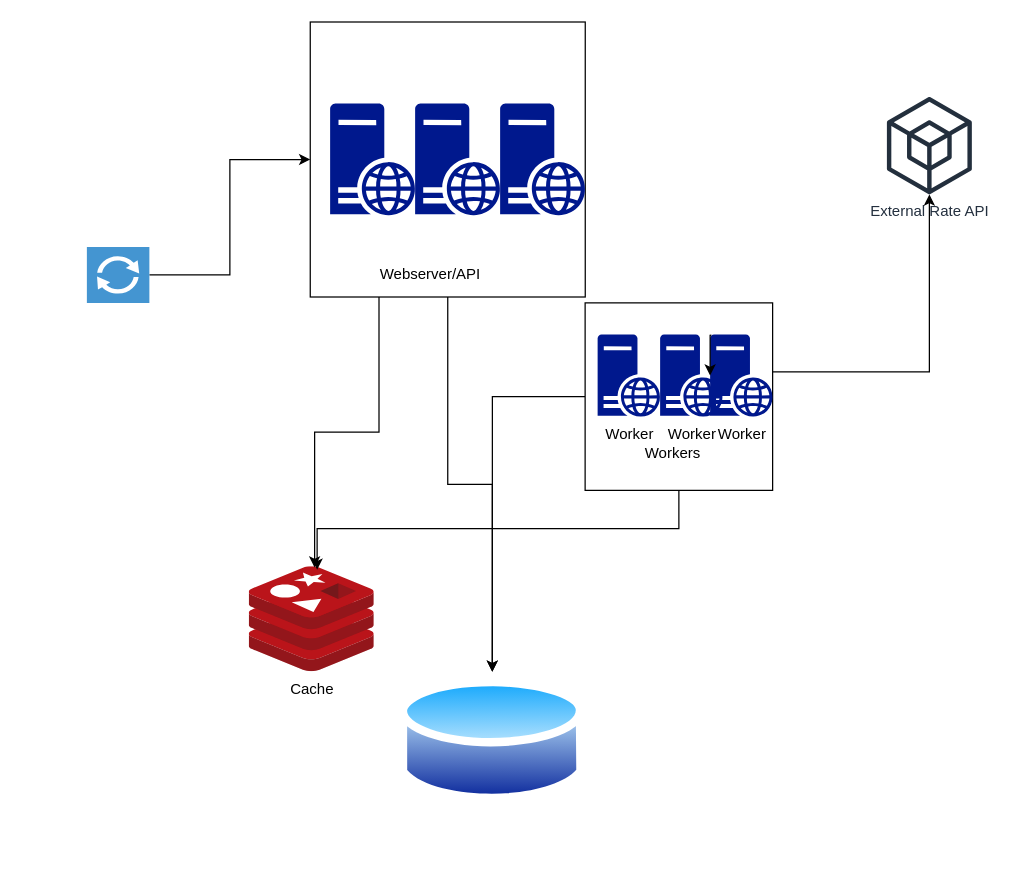
This 1010x880 diagram has some shape labels left out. Each missing label, with the centre of its shape:
"Database" goes at (x=492, y=740).
"Load balance/Reverse Proxy" goes at (x=117, y=274).
